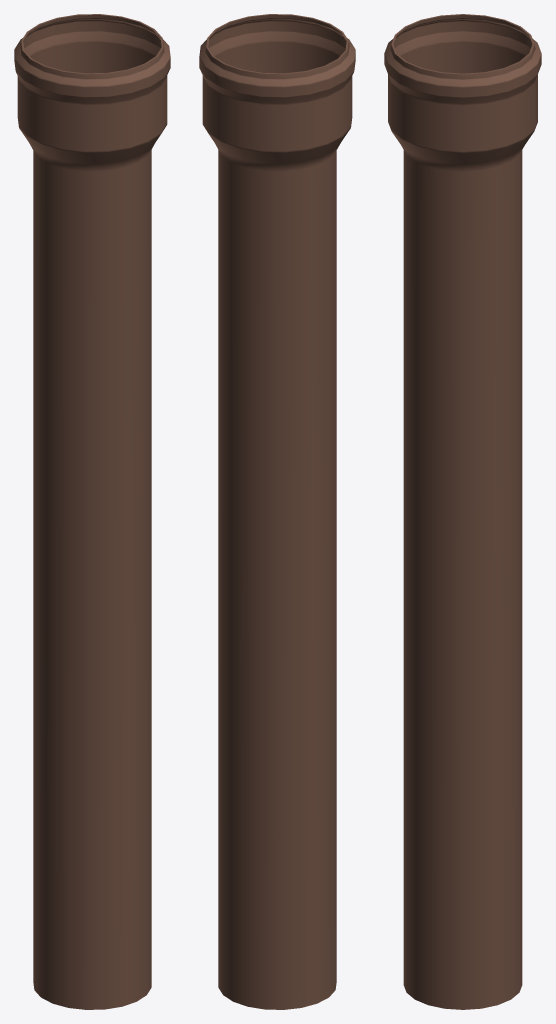
File: Pipes_downward.fbx
The picture shows the model from 3 angles, left to right: view 1: azimuth 30°, elevation 25°; view 2: azimuth 150°, elevation 25°; view 3: azimuth 270°, elevation 25°; orthographic projection.
Parts seen in each view (by area): view 1: pCylinder10; view 2: pCylinder10; view 3: pCylinder10.
Boxes of the visible parts, x1=… form: pCylinder10: x1=14, y1=14, x2=170, y2=1009; pCylinder10: x1=199, y1=14, x2=355, y2=1009; pCylinder10: x1=384, y1=14, x2=541, y2=1009.
Size of the model in its own units: 0.2171 by 1.43 by 0.2171.
